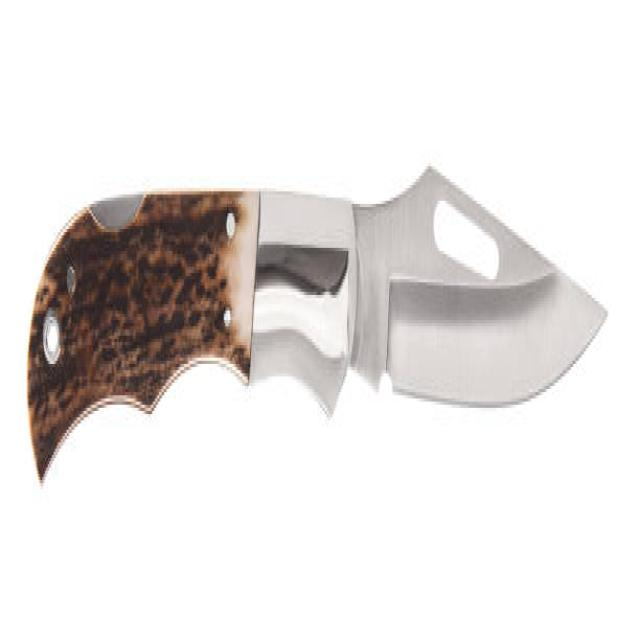knife: (23, 155, 610, 495)
